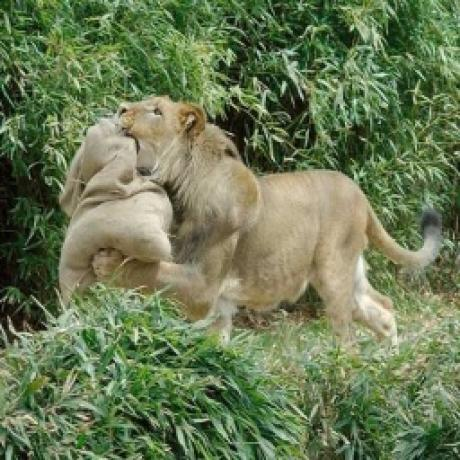Lion: (117, 92, 438, 349)
